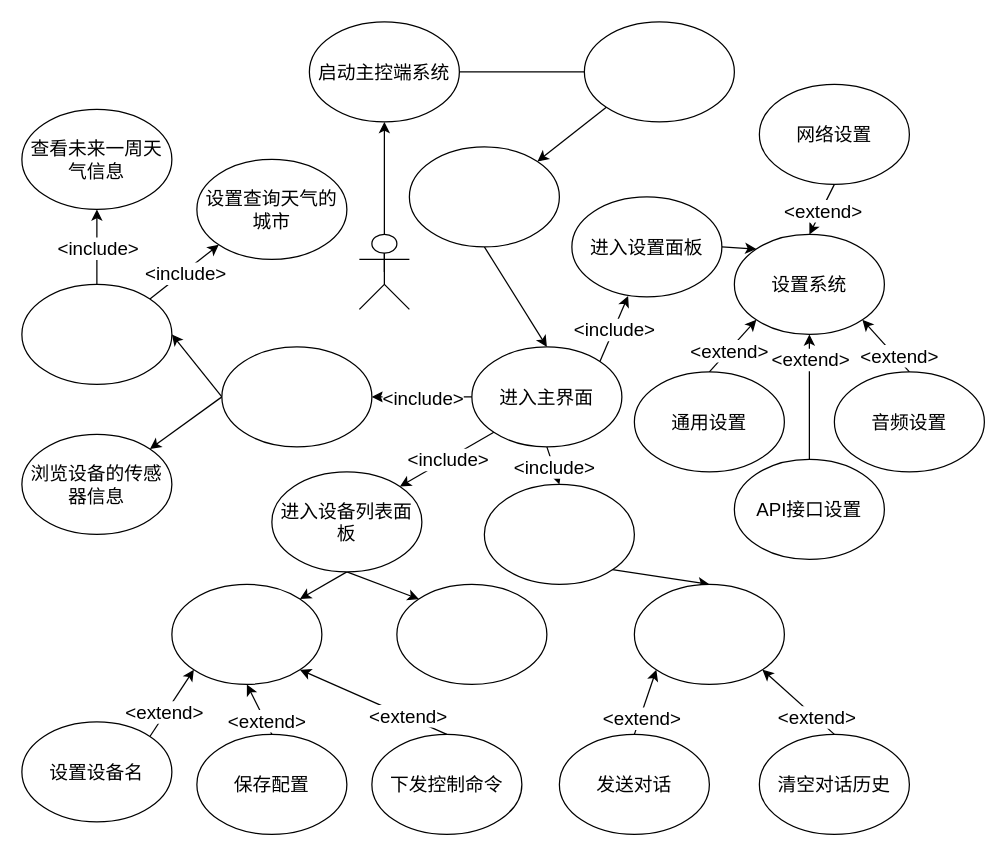
Image size: 1006x856. Some labels were removed from this diagram. The centre of each missing label's shape, as x and y in pixels:
Actor: [383,271]
与AI助手进行对话: [708,633]
刷新被控端设备: [471,633]
查看天气信息: [96,333]
用户登录: [483,196]
解锁锁屏: [658,71]
进入AI助手面板: [558,533]
进入状态信息面板: [296,396]
配置被控端设备: [246,633]
